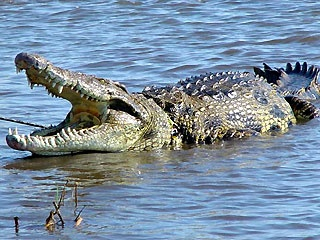crocodile: (4, 48, 319, 158)
